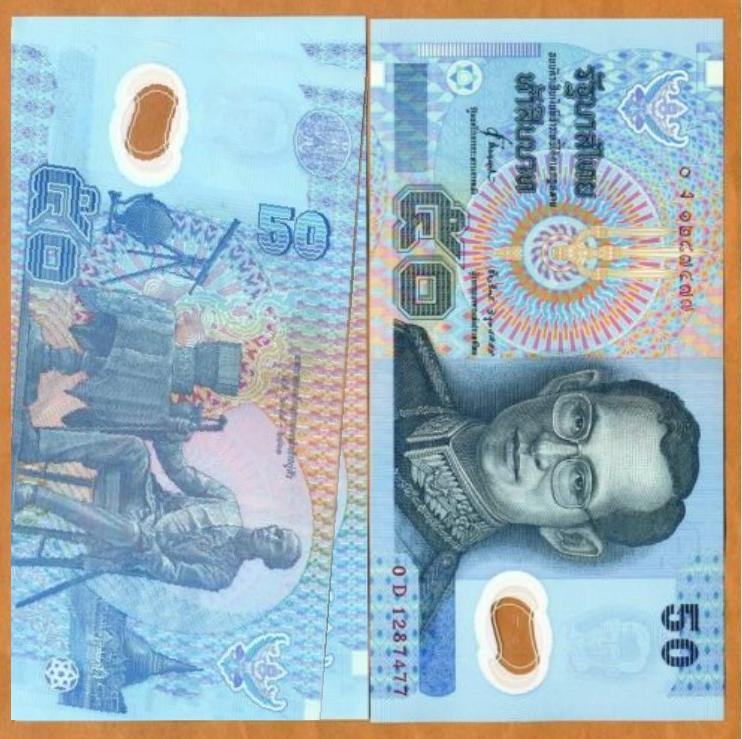50BahtTai: (11, 20, 369, 720)
